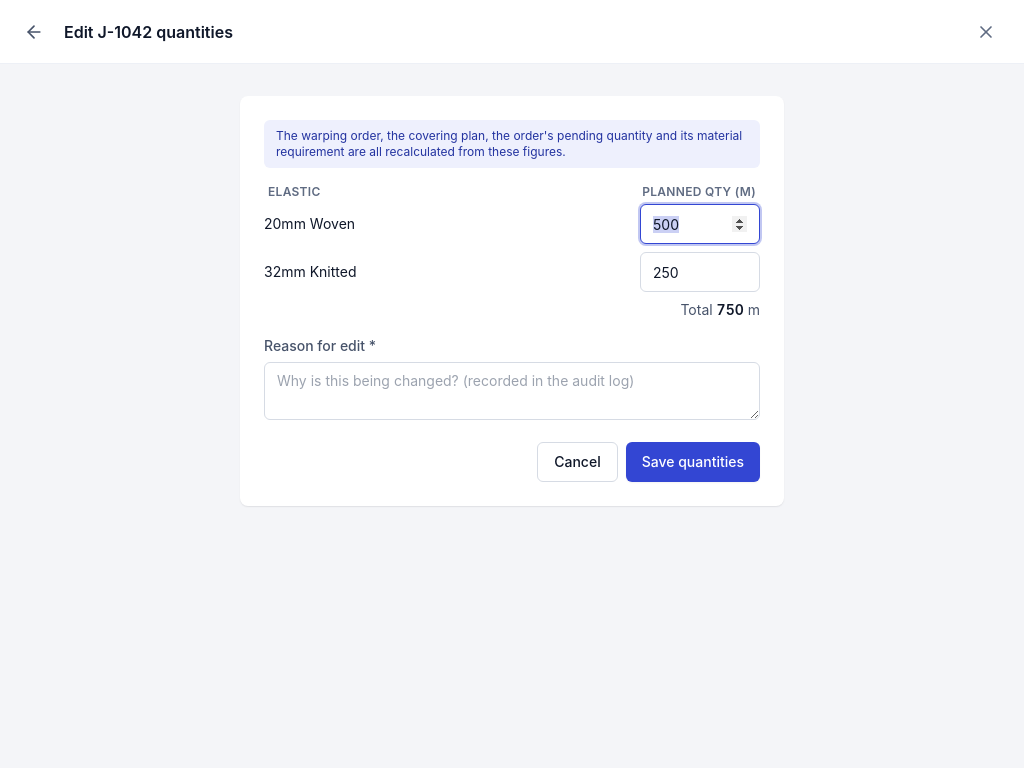
Scenario: a refusal from the server › shows the excess refusal in the form, not as a toast
The image size is (1024, 768).
Replace the text in the number field named "Planned quantity for 20mm Woven" with "300" at (700,224), box left=640, top=204, right=760, bottom=244
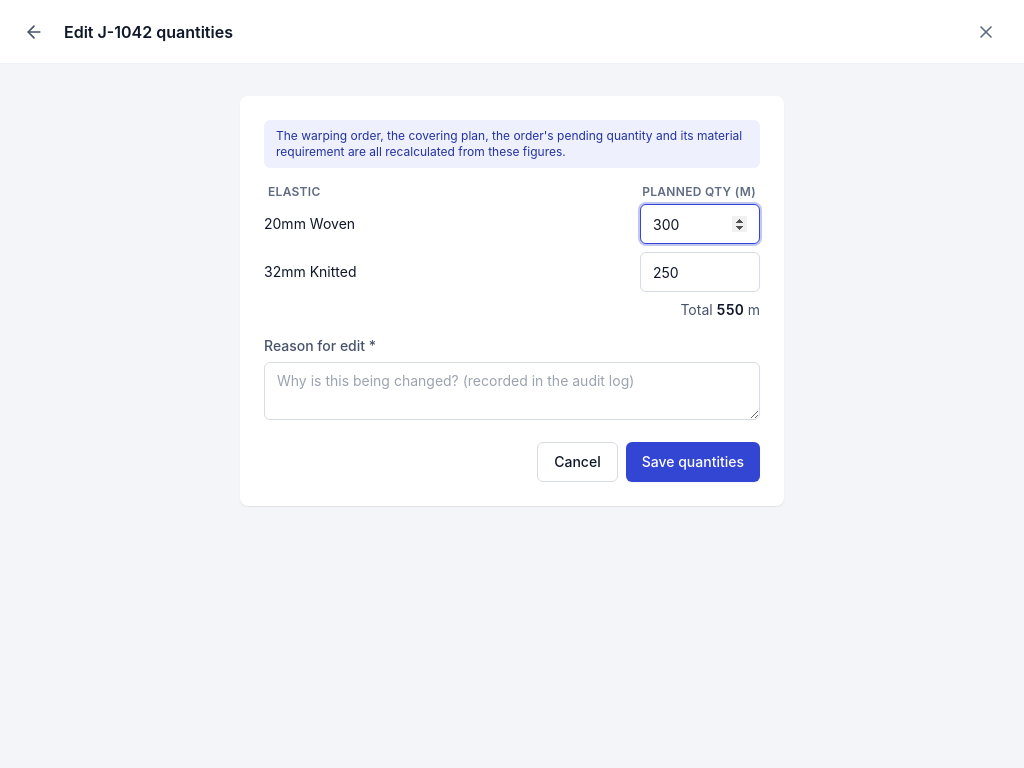
Type "Customer cut the order" into the text box with placeholder "Why is this being changed? (recorded in the audit log)" at (512,391), box left=264, top=362, right=760, bottom=420
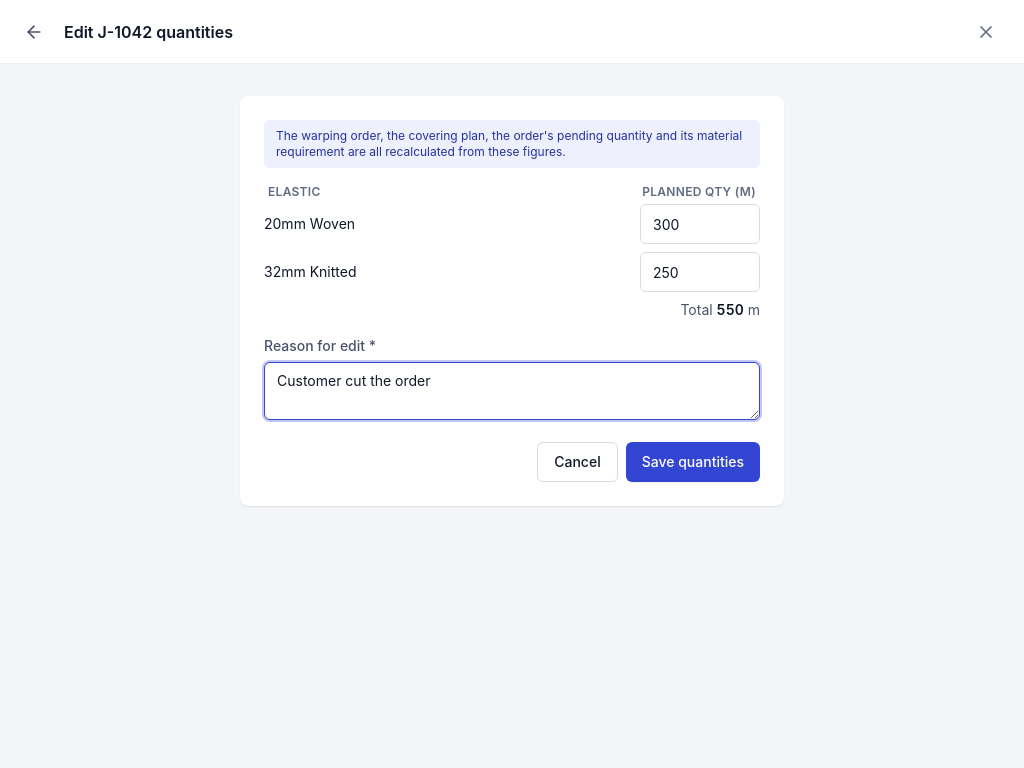
Click the button "Save quantities" at (693,462), box left=626, top=442, right=760, bottom=482
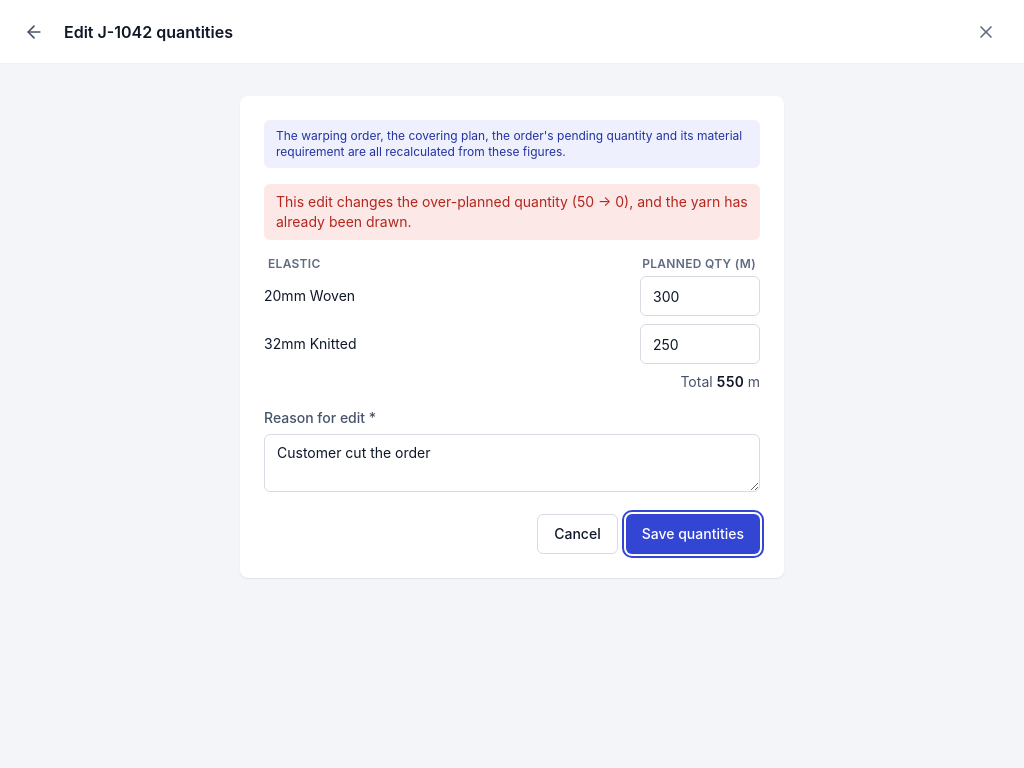
Expected: the text "over-planned quantity" is shown, left=276, top=193, right=748, bottom=230
